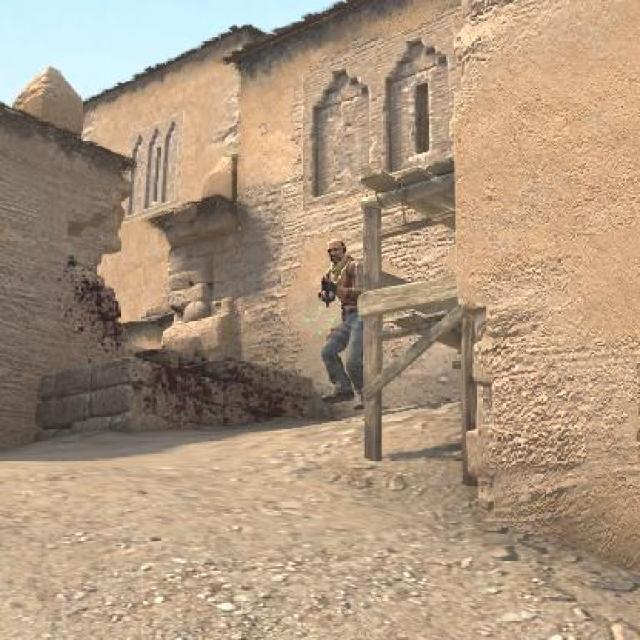Dead: (324, 238, 348, 266)
T-Body: (320, 232, 366, 408)
